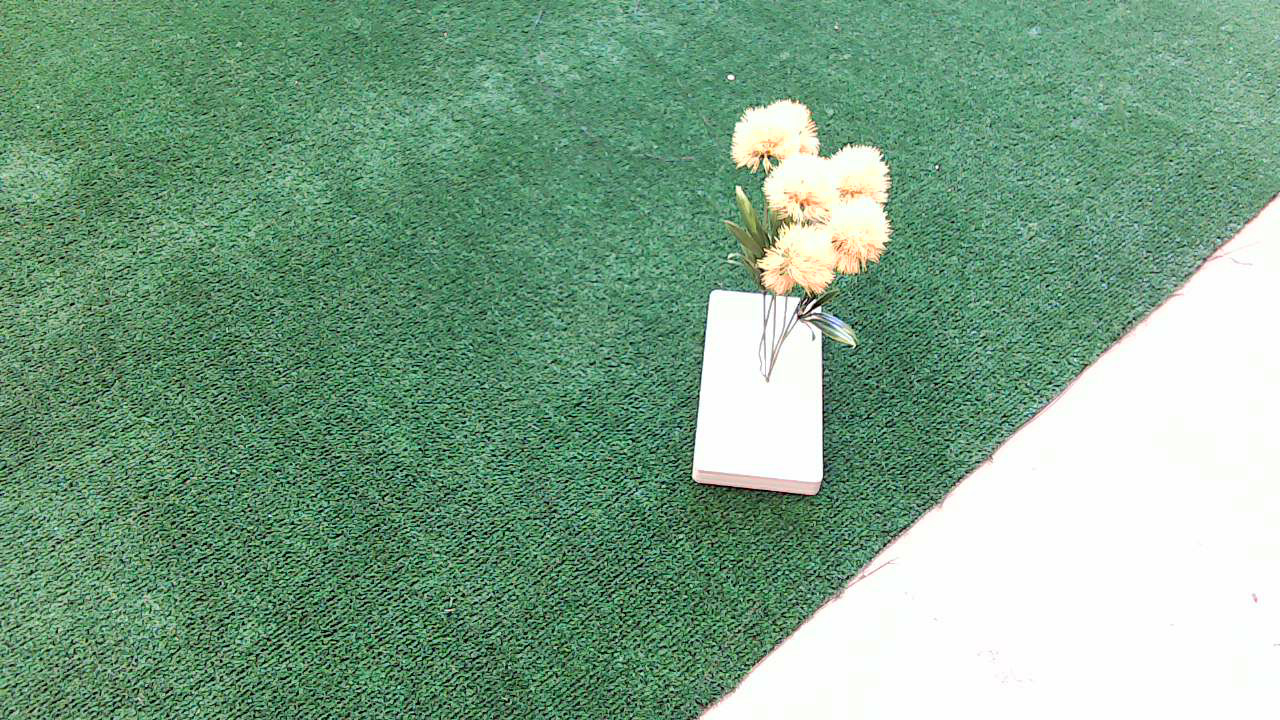dandelion: (679, 86, 920, 394)
